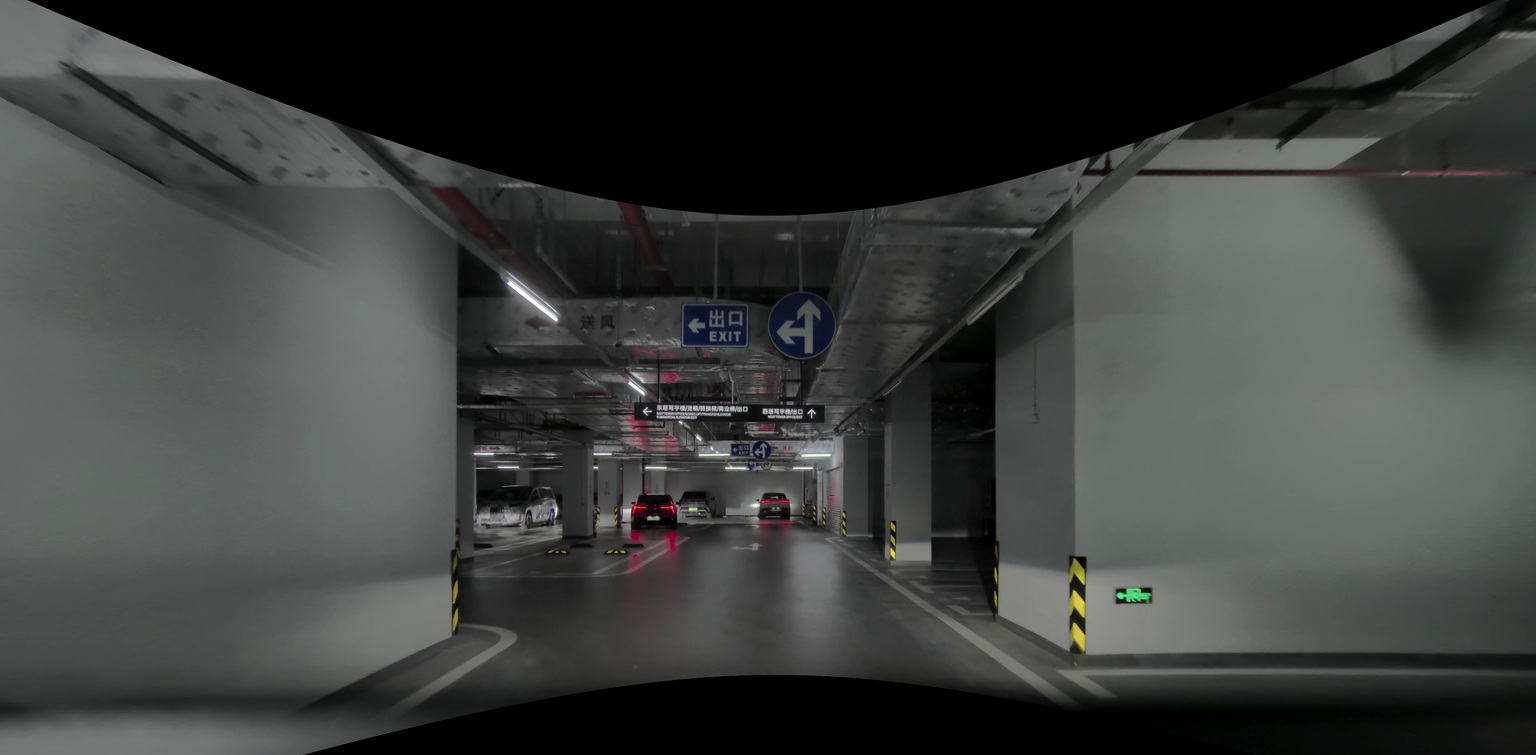B4: (602, 490, 611, 497)
E: (603, 481, 610, 489)
EAST TOWER OFFICE/GOODS LIFT/TRANSFER ELEVATOR COMMERCIAL ELEVATOR/EXIT: (655, 412, 736, 420)
EXIT: (709, 331, 744, 344), (738, 450, 748, 455)
WESTTOWER OFFICE/EXIT: (765, 415, 803, 419)
exits: (1114, 585, 1153, 604)
上: (796, 297, 822, 354), (806, 408, 817, 418), (760, 442, 766, 456)
东塔写字楼/货梯/转换梯/商业梯/出口: (657, 404, 749, 413)
出口: (708, 308, 745, 326), (737, 444, 747, 449)
左: (521, 314, 564, 332), (775, 321, 798, 345), (688, 318, 705, 334), (747, 458, 758, 470), (640, 407, 653, 416), (749, 461, 756, 469), (754, 449, 762, 456), (730, 447, 736, 453)
左上: (767, 292, 837, 358), (730, 541, 762, 552), (752, 440, 770, 458)
禁止右转: (760, 459, 771, 470)
西塔写字楼/出口: (762, 407, 804, 415)
送风: (577, 313, 617, 330)
